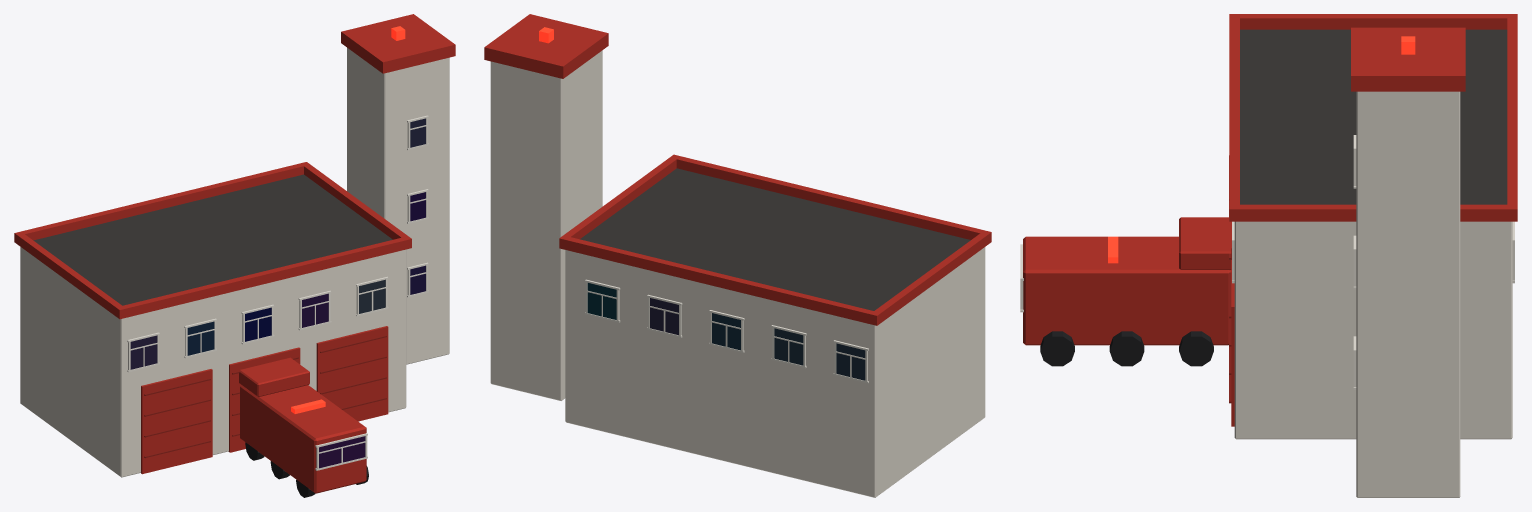
File: firestation.glb
3 renders of one model, left to right at view 1: azimuth 30°, elevation 25°; view 2: azimuth 150°, elevation 25°; view 3: azimuth 270°, elevation 25°, orthographic. The views are drawn at different scales.
Visible parts, largest first — view 1: firestation; view 2: firestation; view 3: firestation.
Boxes of the visible parts, left/top/right/bottom form: firestation: left=14, top=14, right=455, bottom=497; firestation: left=484, top=14, right=991, bottom=497; firestation: left=1020, top=14, right=1517, bottom=497.
Size of the model in its own units: 17.3 by 13.9 by 14.32.
